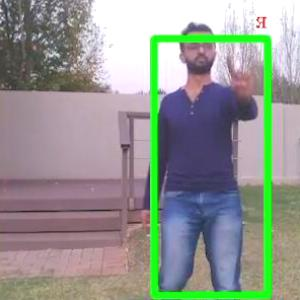takeoff-hand: (224, 47, 261, 99)
